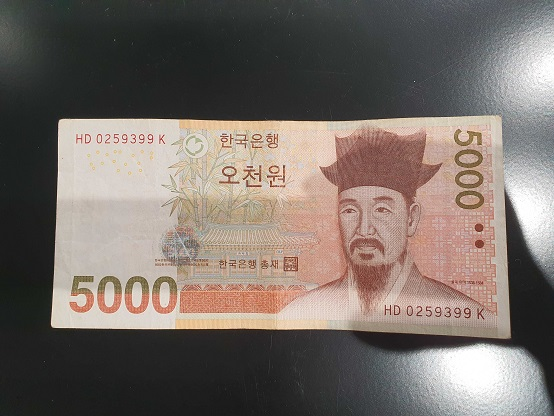5000won: (54, 113, 512, 340)
